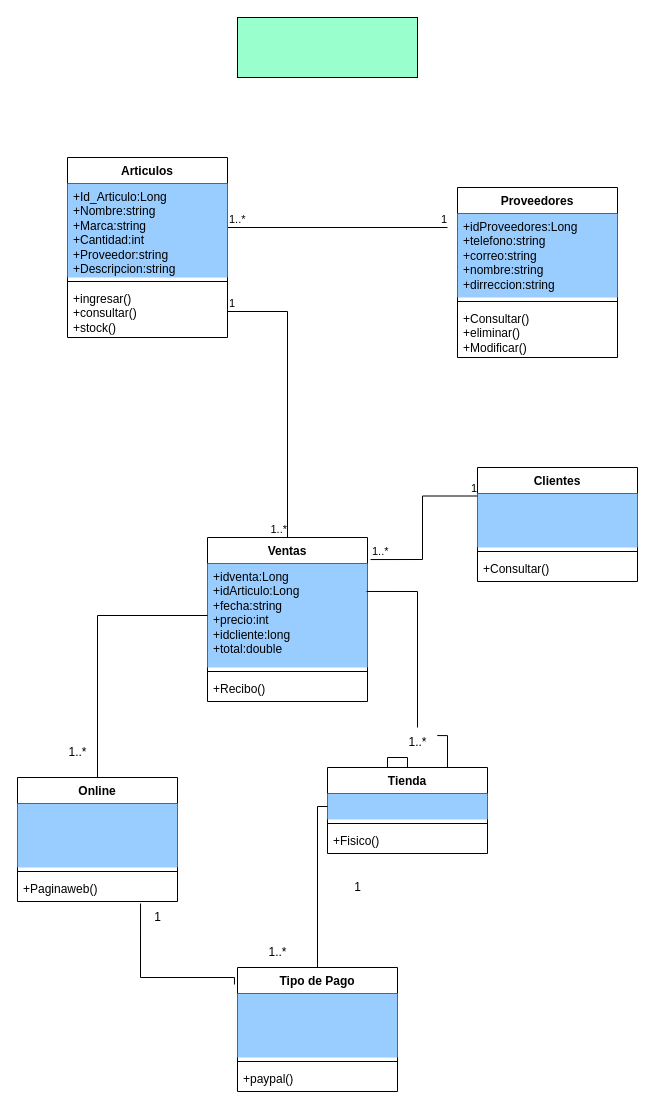
Some shapes in this 655 by 1112 pixel diagram are drawn without their labels. Here are the shapes that lost their labels. From the top down, the centre of each, then its label:
At [327,47]: "MexFut".
At [557,520]: "+idcliente:long +nombre:string +informacion:string".
At [407,806]: "+recibo:string".
At [97,835]: "+Direccion:string +telefono:string +idcliente:long +recibo:string".
At [317,1025]: "+Tarjeta:long +Efectivo:int +Apartado:long +Credito:longo".
